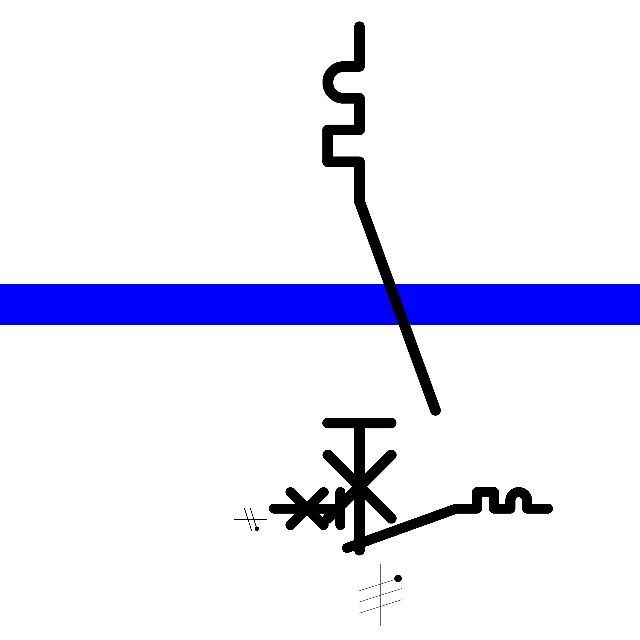interruptor_termomagnetico: (314, 13, 449, 564), (266, 485, 554, 555)
